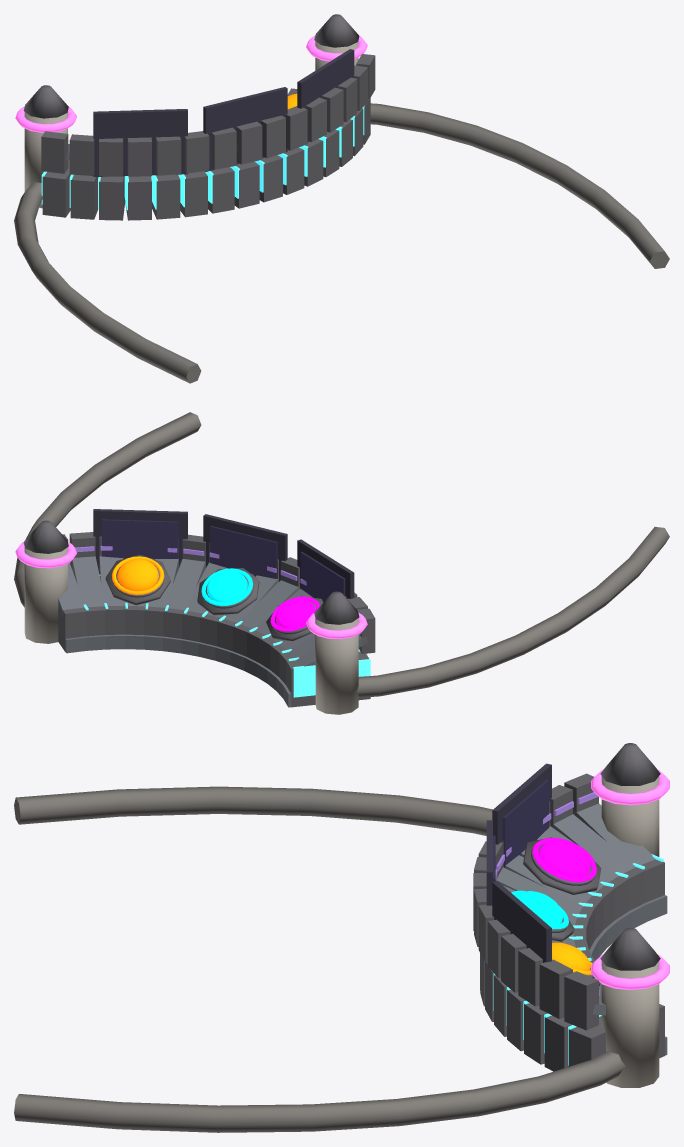
File: alien_console.glb
The picture shows the model from 3 angles, top to bottom: view 1: azimuth 30°, elevation 25°; view 2: azimuth 150°, elevation 25°; view 3: azimuth 270°, elevation 25°; orthographic projection. The views are drawn at different scales.
Visible parts, largest first — view 1: CON_Feed_L, CON_Feed_R, CON_Glyph_C, CON_Glyph_B, CON_Glyph_A, CON_Pylon_R, CON_Plinth_14, CON_Plinth_13, CON_Plinth_12, CON_Plinth_10, CON_Brow_14, CON_Plinth_11 (+22 smaller); view 2: CON_Feed_R, CON_Feed_L, CON_Pylon_R, CON_Pylon_L, CON_GlyphFace_A, CON_GlyphFace_B, CON_Glyph_A, CON_GlyphFace_C, CON_Glyph_B, CON_Panel_01, CON_Panel_05, CON_Panel_09 (+32 smaller); view 3: CON_Feed_L, CON_Feed_R, CON_Pylon_L, CON_Pylon_R, CON_Glyph_A, CON_GlyphFace_C, CON_Brow_00, CON_Panel_13, CON_PylonCap_L, CON_PylonCap_R, CON_Plinth_00, CON_Btn_C (+25 smaller).
Boxes of the visible parts, bbox=[...] form: CON_Feed_L: bbox=[370, 103, 669, 268]; CON_Feed_R: bbox=[14, 182, 201, 383]; CON_Glyph_C: bbox=[93, 109, 187, 176]; CON_Glyph_B: bbox=[203, 87, 287, 171]; CON_Glyph_A: bbox=[297, 49, 354, 142]; CON_Pylon_R: bbox=[24, 111, 67, 208]; CON_Plinth_14: bbox=[42, 144, 70, 217]; CON_Plinth_13: bbox=[70, 174, 98, 219]; CON_Plinth_12: bbox=[99, 176, 125, 220]; CON_Plinth_10: bbox=[152, 174, 180, 219]; CON_Brow_14: bbox=[41, 131, 68, 173]; CON_Plinth_11: bbox=[125, 176, 151, 220]; CON_Feed_R: bbox=[357, 527, 669, 697]; CON_Feed_L: bbox=[14, 412, 201, 607]; CON_Pylon_R: bbox=[315, 618, 358, 714]; CON_Pylon_L: bbox=[24, 547, 67, 643]; CON_GlyphFace_A: bbox=[102, 519, 178, 567]; CON_GlyphFace_B: bbox=[210, 526, 277, 578]; CON_Glyph_A: bbox=[93, 509, 187, 574]; CON_GlyphFace_C: bbox=[300, 552, 345, 602]; CON_Glyph_B: bbox=[203, 514, 287, 581]; CON_Panel_01: bbox=[72, 556, 104, 607]; CON_Panel_05: bbox=[166, 559, 205, 610]; CON_Panel_09: bbox=[241, 580, 299, 628]; CON_Feed_L: bbox=[14, 1051, 625, 1132]; CON_Feed_R: bbox=[14, 786, 492, 835]; CON_Pylon_L: bbox=[601, 961, 659, 1087]; CON_Pylon_R: bbox=[601, 776, 659, 856]; CON_Glyph_A: bbox=[492, 881, 551, 1005]; CON_GlyphFace_C: bbox=[502, 779, 549, 867]; CON_Brow_00: bbox=[564, 971, 598, 1030]; CON_Panel_13: bbox=[553, 814, 635, 875]; CON_PylonCap_L: bbox=[600, 928, 660, 970]; CON_PylonCap_R: bbox=[600, 743, 660, 785]; CON_Plinth_00: bbox=[568, 1004, 664, 1066]; CON_Btn_C: bbox=[539, 840, 590, 877].
Size of what is drawn, in the model's own units: 11.4 by 2.34 by 9.56.
1 material, 1 textured.
